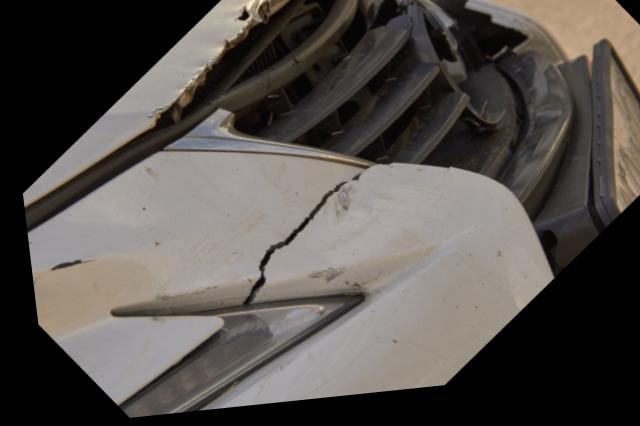crack: (233, 171, 365, 308), (233, 7, 250, 28)
